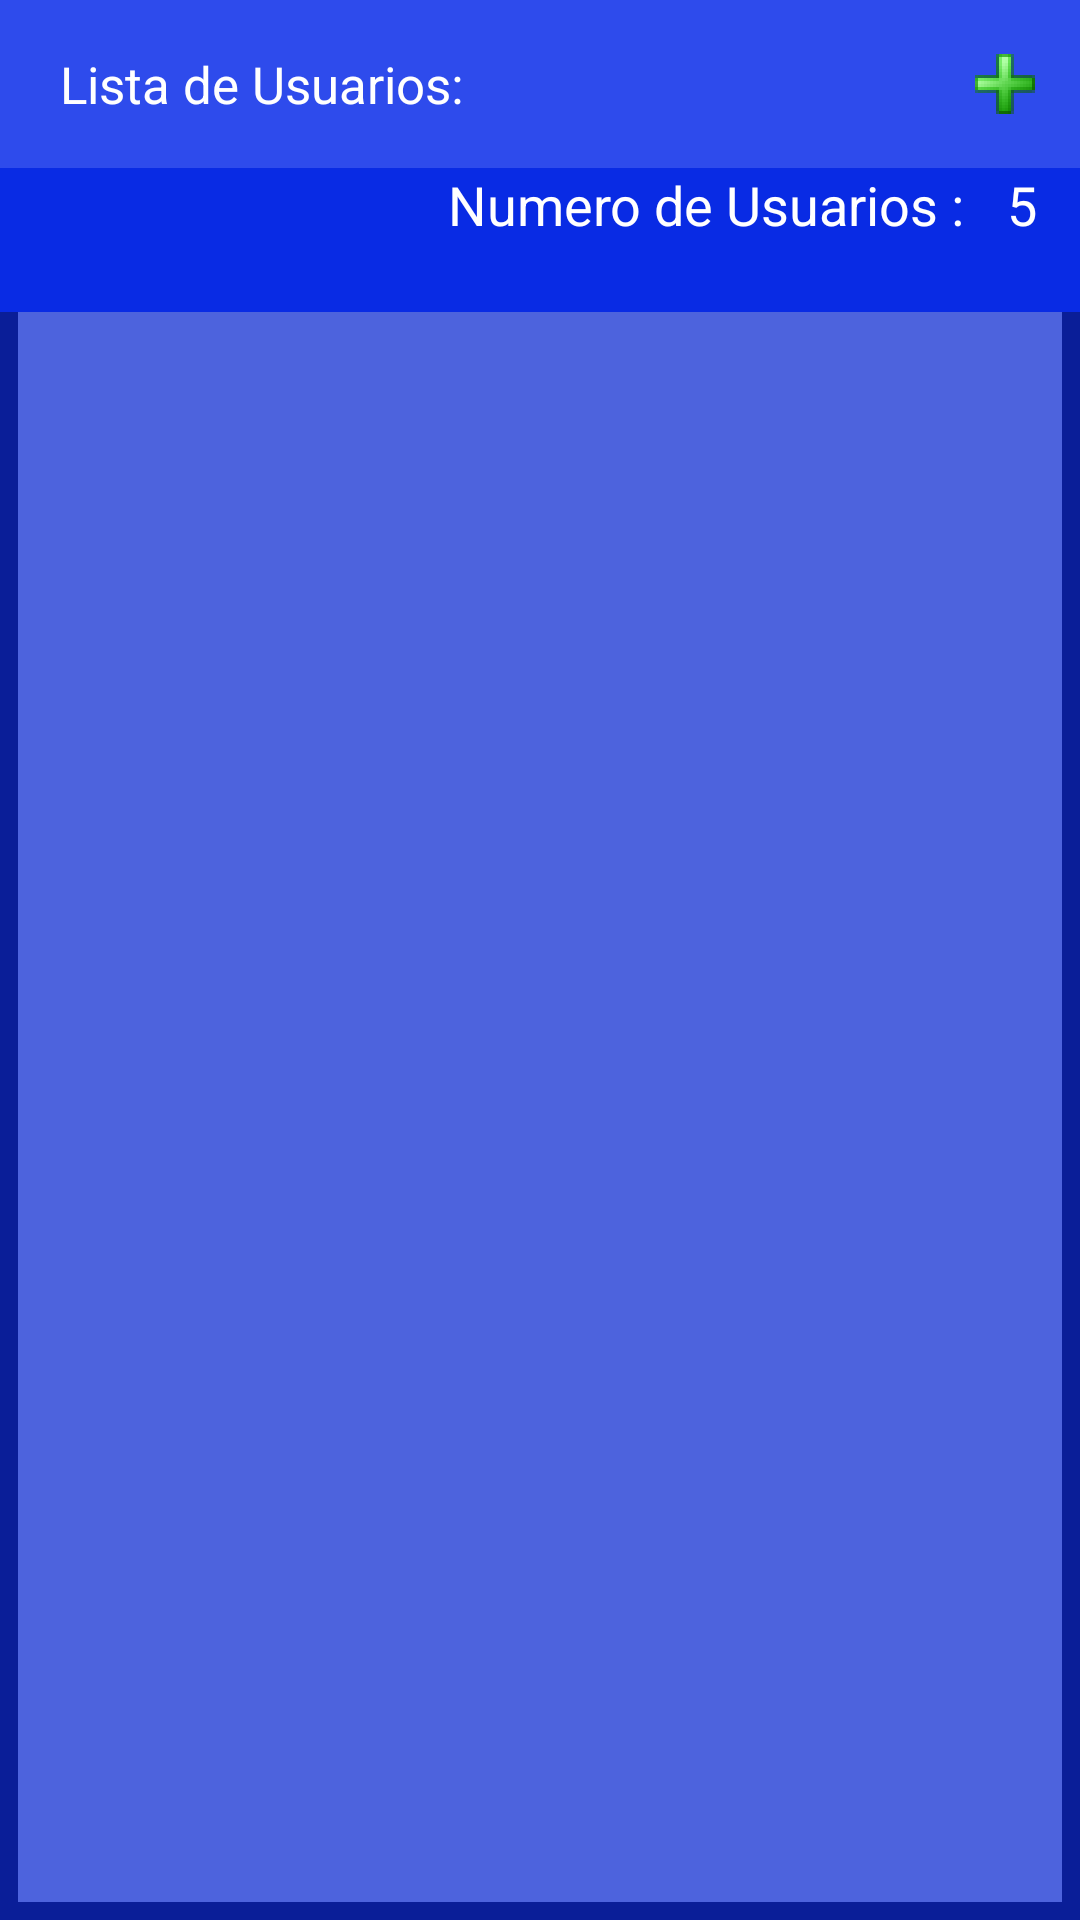

Where to tap for icons on this 1080w x 1920h app screen, as (x,y):
cruz: (1005,84)
